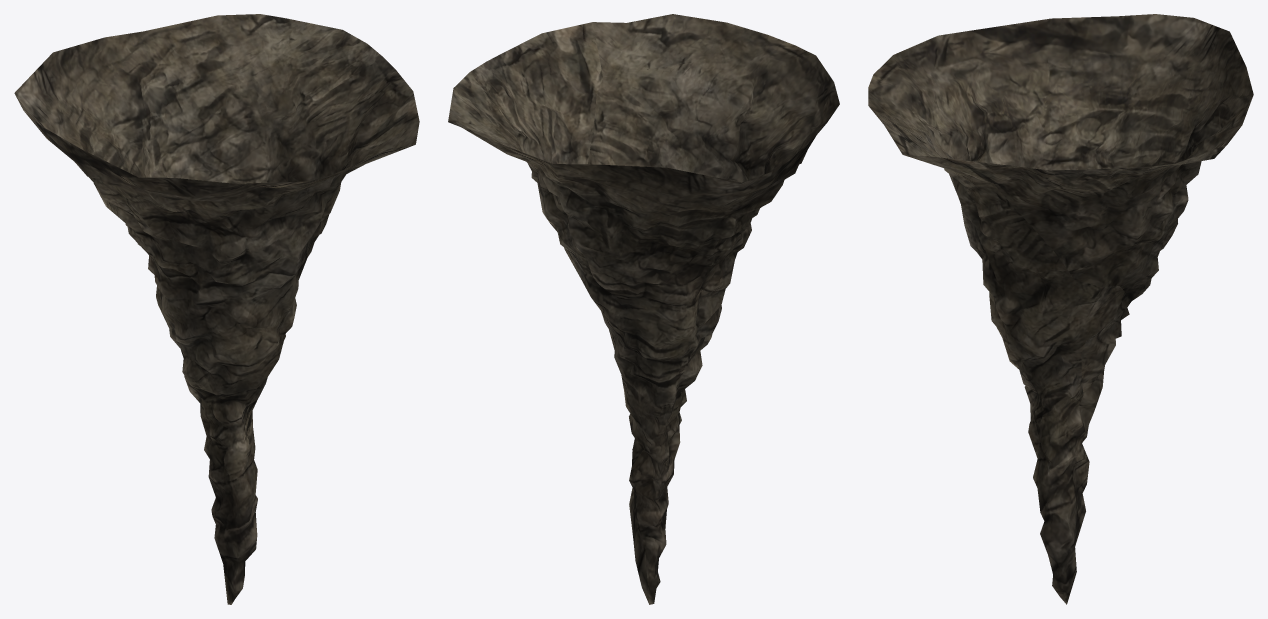
Rendered from MEP_C_Stalagmite_02_N.fbx.
3 views of the same model, side by side, from view 1: azimuth 30°, elevation 25°; view 2: azimuth 150°, elevation 25°; view 3: azimuth 270°, elevation 25° (orthographic).
Parts seen in each view (by area): view 1: MEP_C_Stalagmite_02; view 2: MEP_C_Stalagmite_02; view 3: MEP_C_Stalagmite_02.
Boxes of the visible parts, <box> form: MEP_C_Stalagmite_02: <box>14,14,419,604</box>; MEP_C_Stalagmite_02: <box>448,14,839,604</box>; MEP_C_Stalagmite_02: <box>868,14,1253,604</box>.
Size of what is drawn, in the model's own units: 207 by 318 by 212.
1 material, 1 textured.
